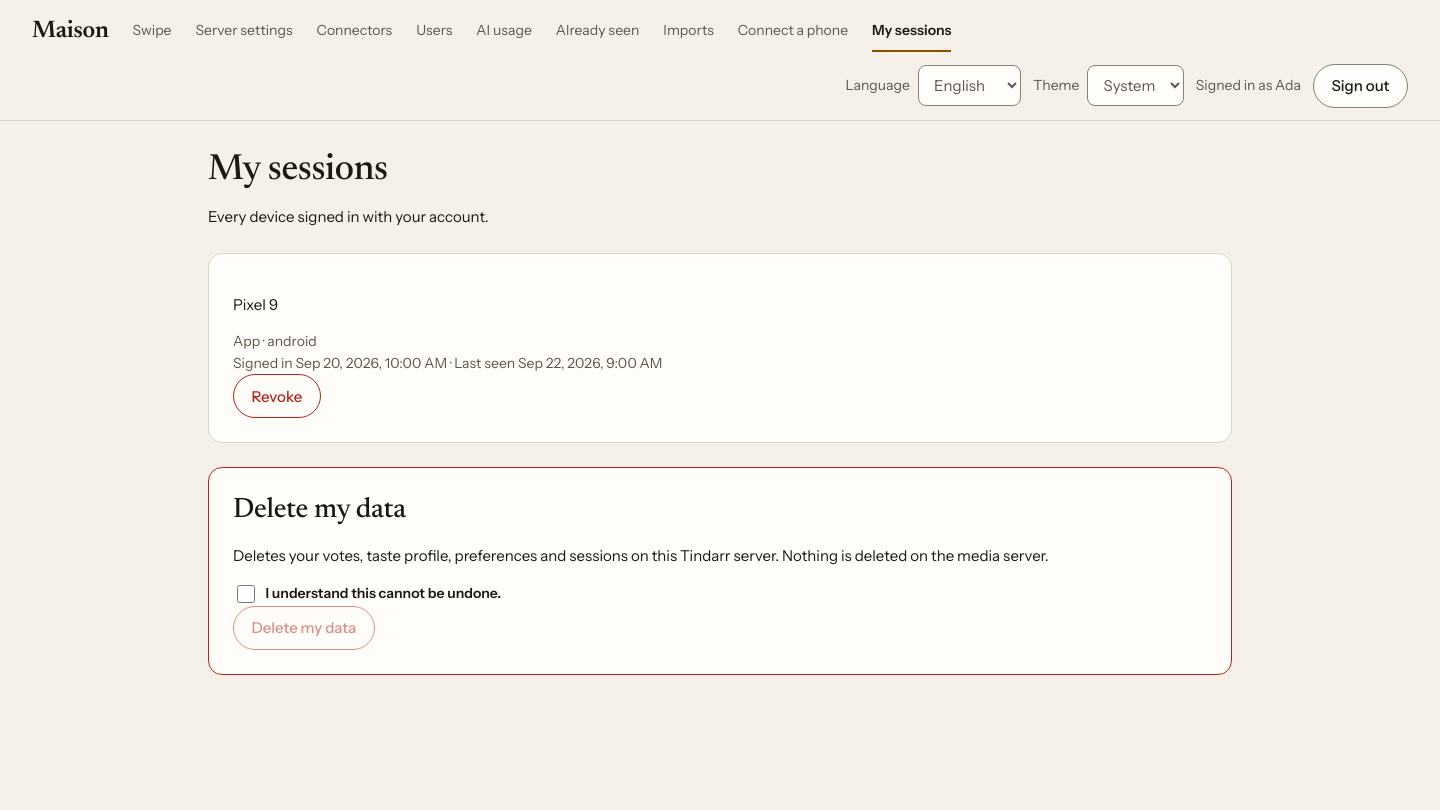
Test case: deleting my data › refuses to delete the last administrator's data
The image size is (1440, 810).
What coordinates should you click on to do the following:
click the checkbox labelled "I understand this cannot be undone."
I would click on:
 (246, 594)
Its box is [237, 585, 255, 603].
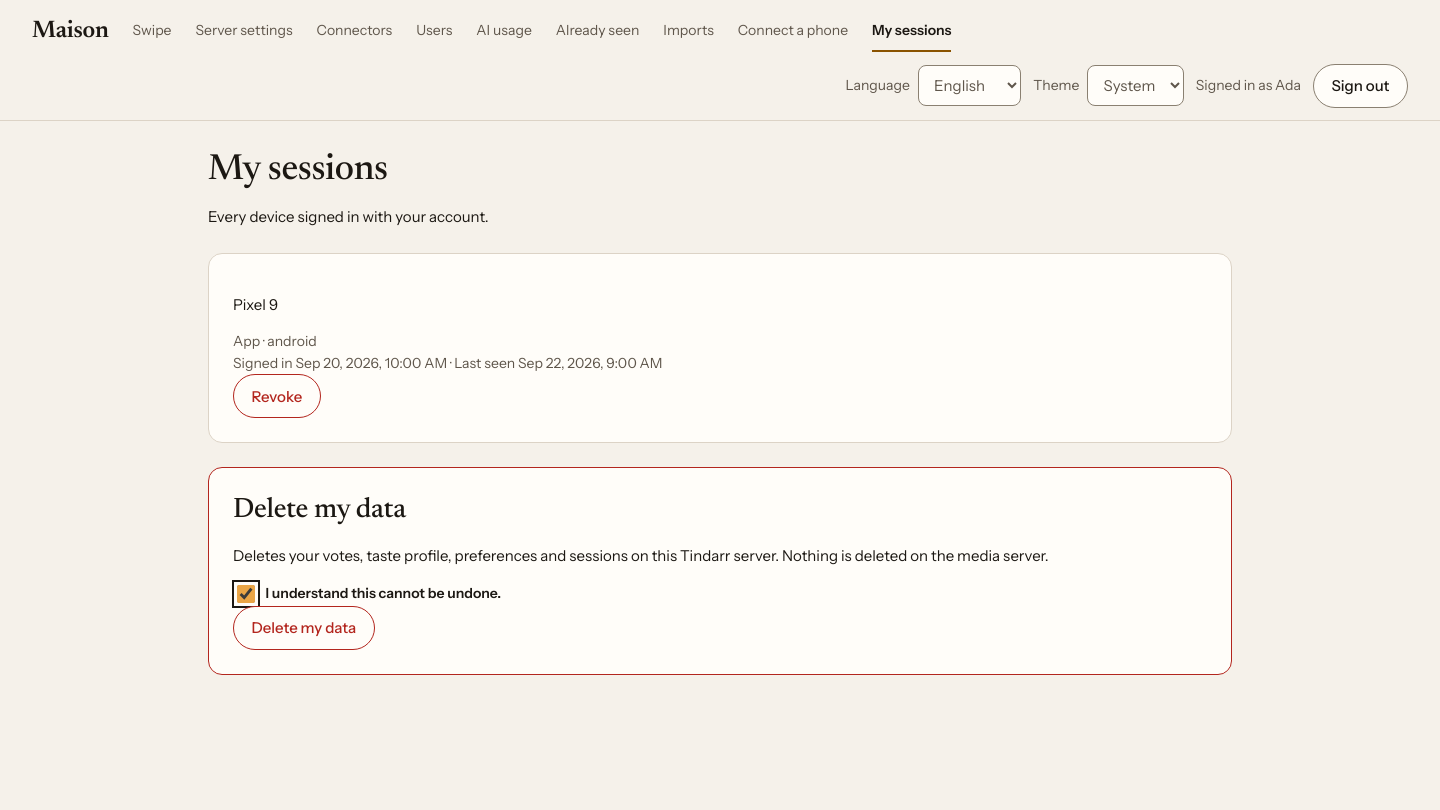
What coordinates should you click on to do the following:
click the button "Delete my data"
I would click on:
 (304, 628)
Its box is [233, 606, 375, 650].
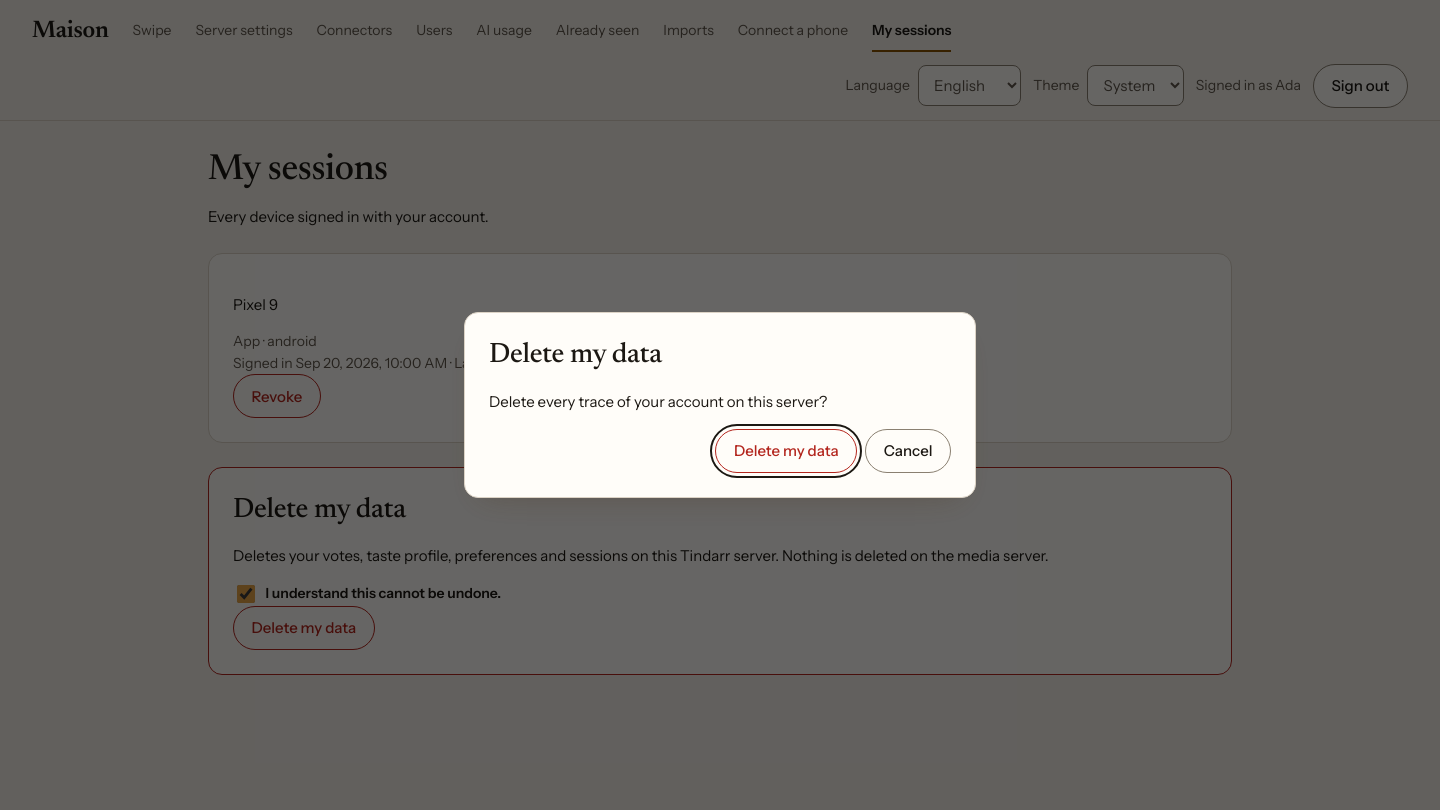
What coordinates should you click on to do the following:
click the button "Delete my data"
I would click on:
 (786, 451)
Its box is [715, 429, 857, 473].
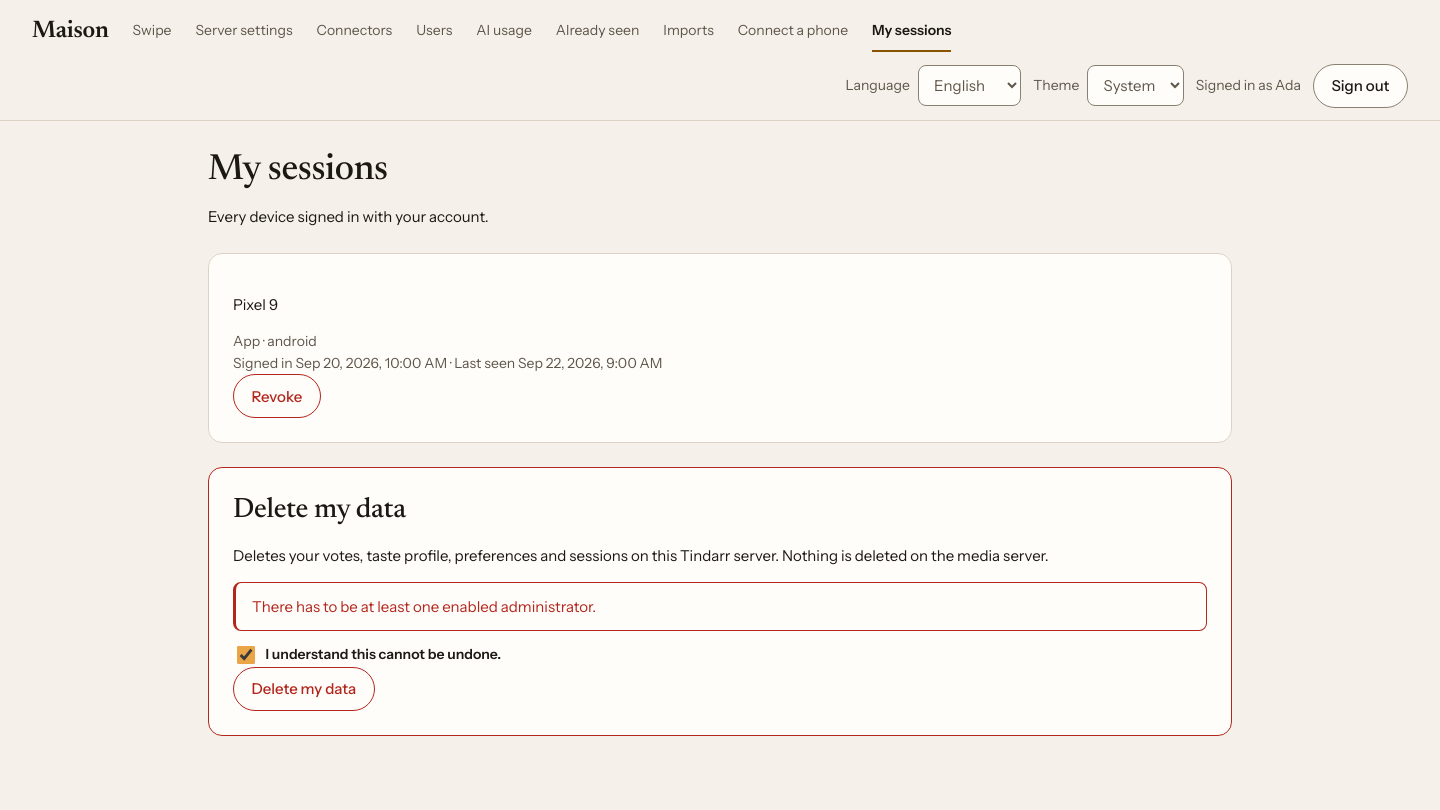
Expected: the message reads "There has to be at least one enabled administrator.", [252, 597, 596, 616]
